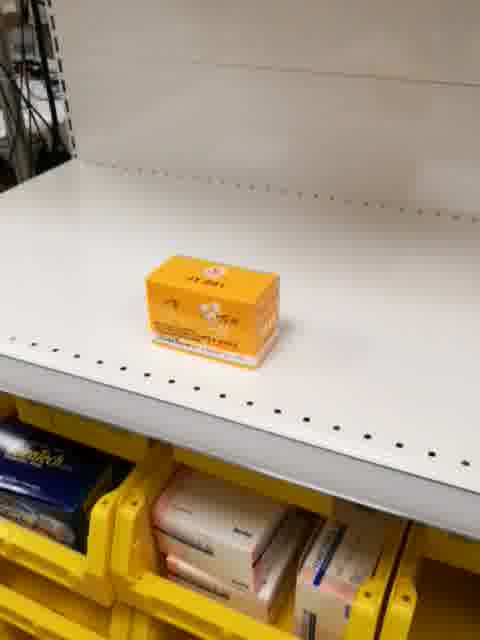jasminetea: (143, 254, 282, 372)
